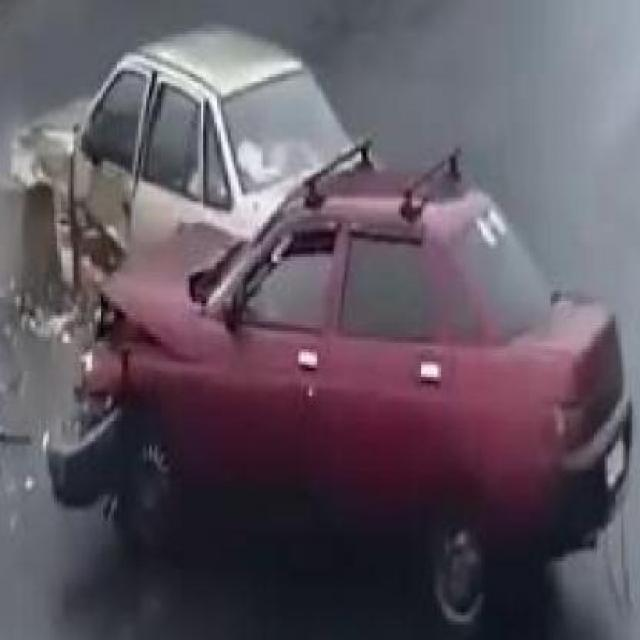accident: (0, 22, 596, 576)
